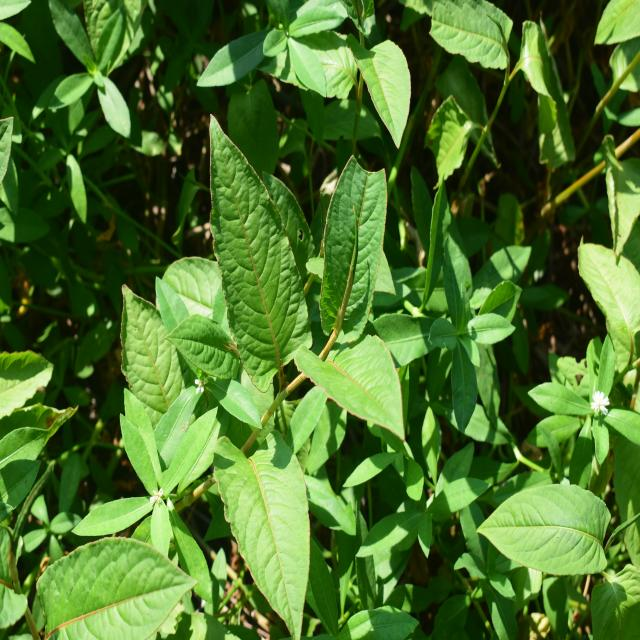Chinese_knotweed: (165, 83, 392, 585)
